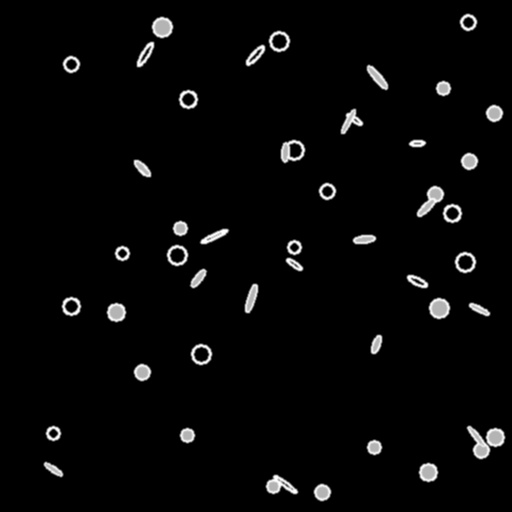pseudomonas: (272, 473, 298, 495), (366, 64, 388, 90), (244, 43, 266, 67), (243, 283, 259, 313), (136, 41, 154, 67), (200, 228, 228, 244), (466, 425, 486, 447), (340, 108, 356, 134), (416, 197, 436, 217), (133, 158, 151, 178), (189, 268, 207, 288), (406, 273, 428, 289), (43, 461, 63, 477), (285, 256, 303, 272), (469, 302, 489, 316), (369, 334, 383, 354), (345, 112, 363, 126), (353, 235, 375, 243), (281, 142, 289, 162), (409, 140, 425, 146)
synechocystis: (430, 299, 448, 317), (270, 32, 288, 50), (456, 253, 474, 271), (168, 246, 186, 264), (153, 18, 171, 36), (285, 141, 303, 159), (192, 345, 210, 363), (180, 91, 196, 107), (63, 298, 79, 314), (420, 464, 436, 480), (444, 205, 460, 221), (108, 304, 124, 320), (487, 429, 503, 445), (461, 15, 475, 29), (315, 485, 329, 499), (487, 106, 501, 120), (64, 57, 78, 71), (135, 365, 149, 379), (462, 154, 476, 168), (474, 443, 488, 457), (320, 184, 334, 198), (428, 187, 442, 201), (437, 82, 449, 94), (174, 222, 186, 234), (116, 247, 128, 259), (288, 241, 300, 253), (368, 441, 380, 453), (47, 427, 59, 439), (181, 429, 193, 441), (267, 480, 279, 492)
